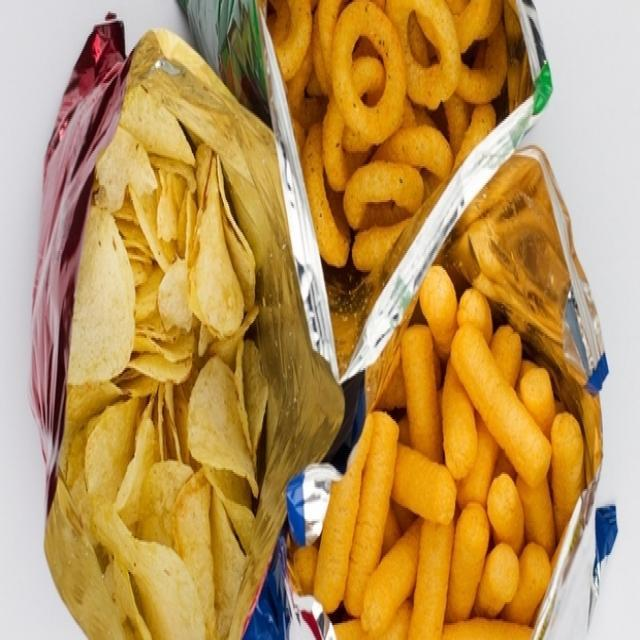Chips packaged: (74, 159, 250, 635), (337, 315, 583, 625), (271, 4, 515, 257)
